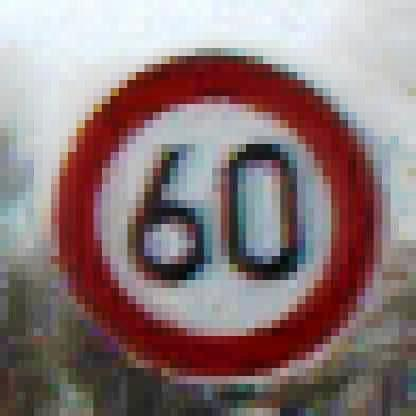Speed Limit -60-: (52, 47, 383, 385)
